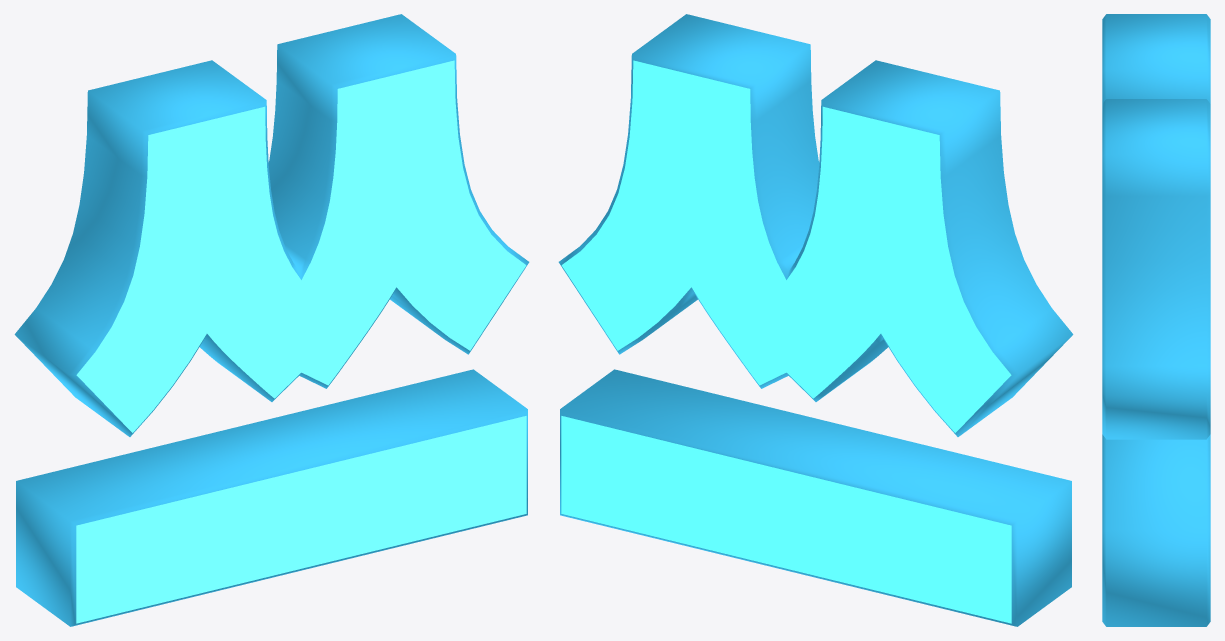
The picture shows the model from 3 angles, left to right: view 1: azimuth 30°, elevation 25°; view 2: azimuth 150°, elevation 25°; view 3: azimuth 270°, elevation 25°; orthographic projection. The views are drawn at different scales.
Visible parts, largest first — view 1: glyph; view 2: glyph; view 3: glyph.
Part boxes in pixels (x1,y1,x2,y2): glyph: (14,14,529,626); glyph: (558,14,1073,626); glyph: (1102,14,1210,626).
Bounding box in the file's own units: 0.0731 × 0.0726 × 0.0162.
